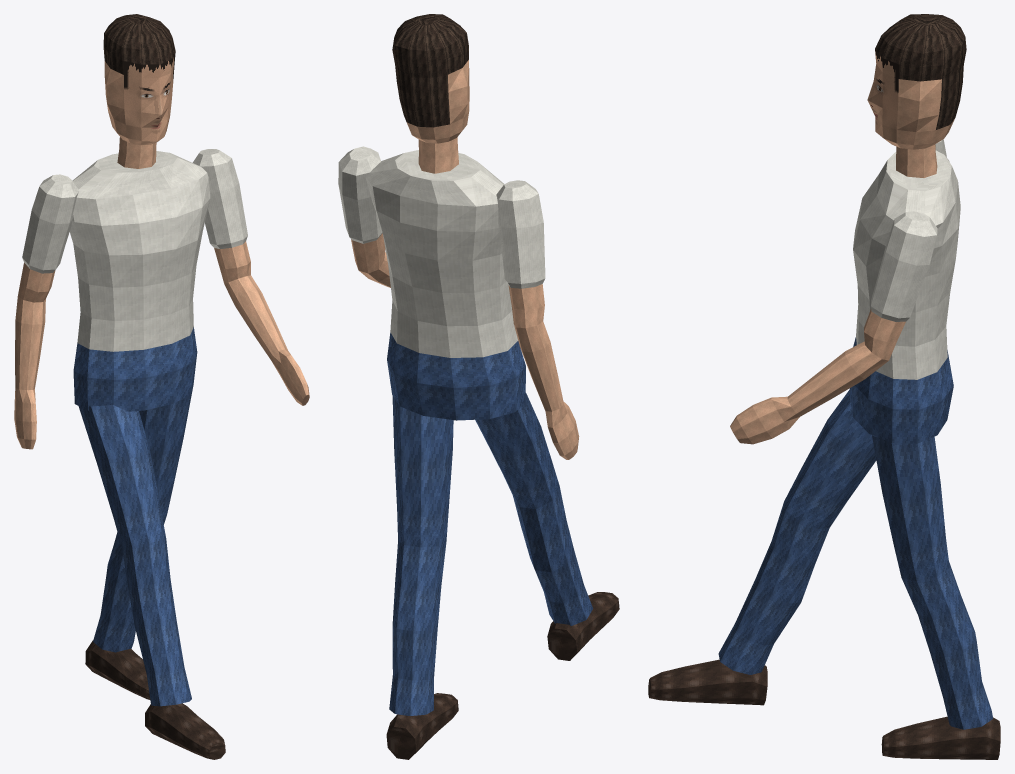
Rendered from walk_13.obj.
3 views of the same model, side by side, from view 1: azimuth 30°, elevation 25°; view 2: azimuth 150°, elevation 25°; view 3: azimuth 270°, elevation 25° (orthographic). The views are drawn at different scales.
Size of the model in its own units: 0.6254 by 1.84 by 0.7913.
Materials: 25 (25 with a texture image).
